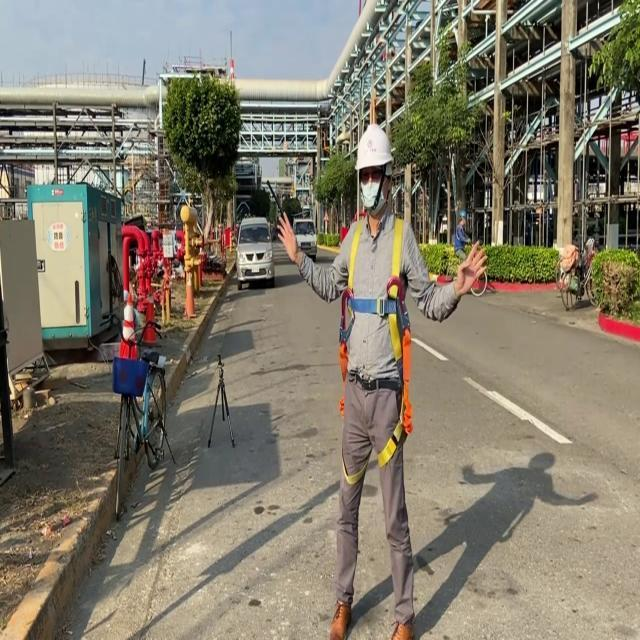safety belt: (335, 222, 412, 487)
